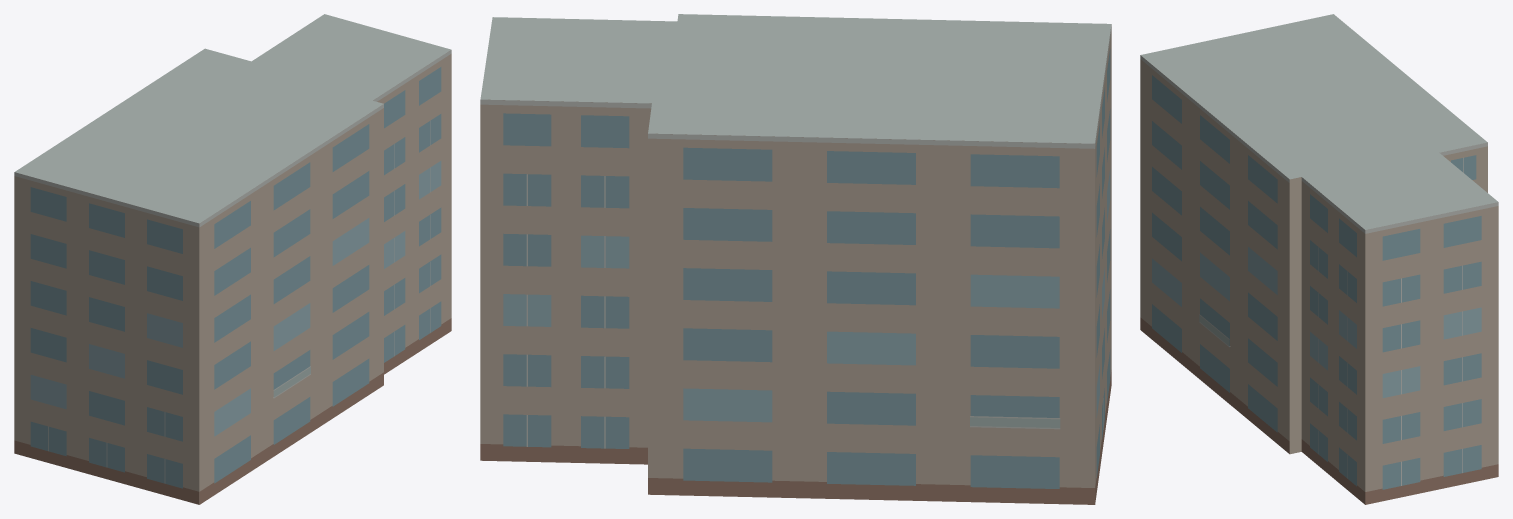
Rendered from survey-upis-32704886.glb.
3 views of the same model, side by side, from view 1: azimuth 30°, elevation 25°; view 2: azimuth 150°, elevation 25°; view 3: azimuth 270°, elevation 25° (orthographic). The views are drawn at different scales.
Parts seen in each view (by area): view 1: survey-upis-32704886.tmp; view 2: survey-upis-32704886.tmp; view 3: survey-upis-32704886.tmp.
Part boxes in pixels (x1,y1,x2,y2): survey-upis-32704886.tmp: (14,14,451,504); survey-upis-32704886.tmp: (480,14,1111,504); survey-upis-32704886.tmp: (1140,14,1498,504).
Bounding box in the file's own units: 29.34 × 17.4 × 20.56.
